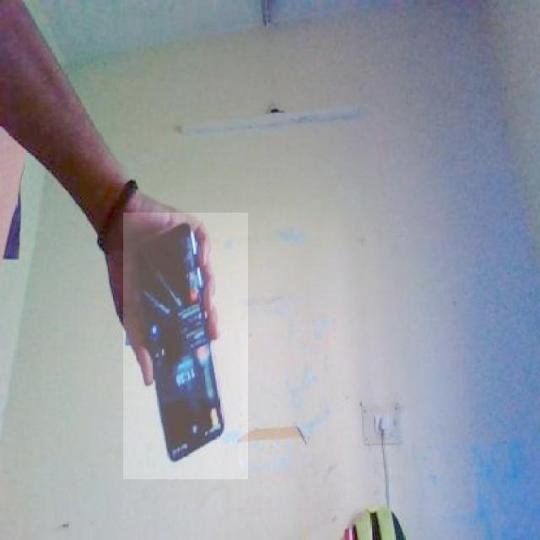phone: (133, 222, 236, 466)
